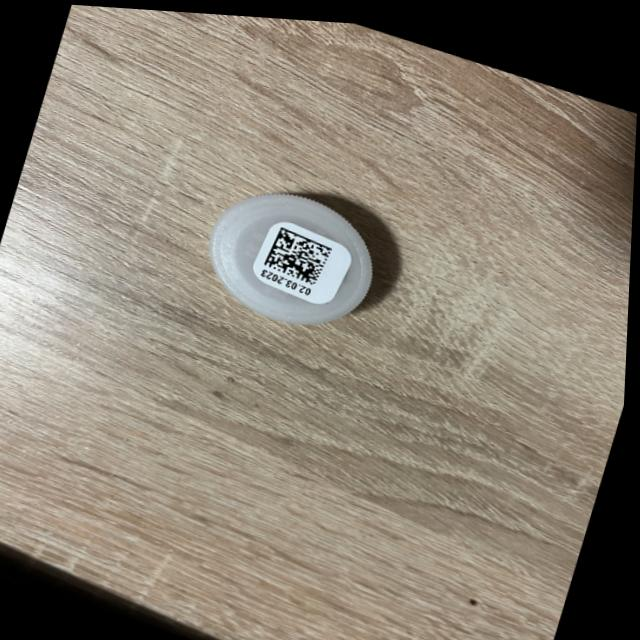datamatrix: (264, 220, 336, 283)
